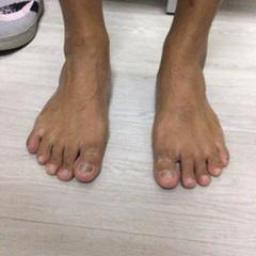Dorsal View -Both Feet-: (18, 10, 235, 200)
